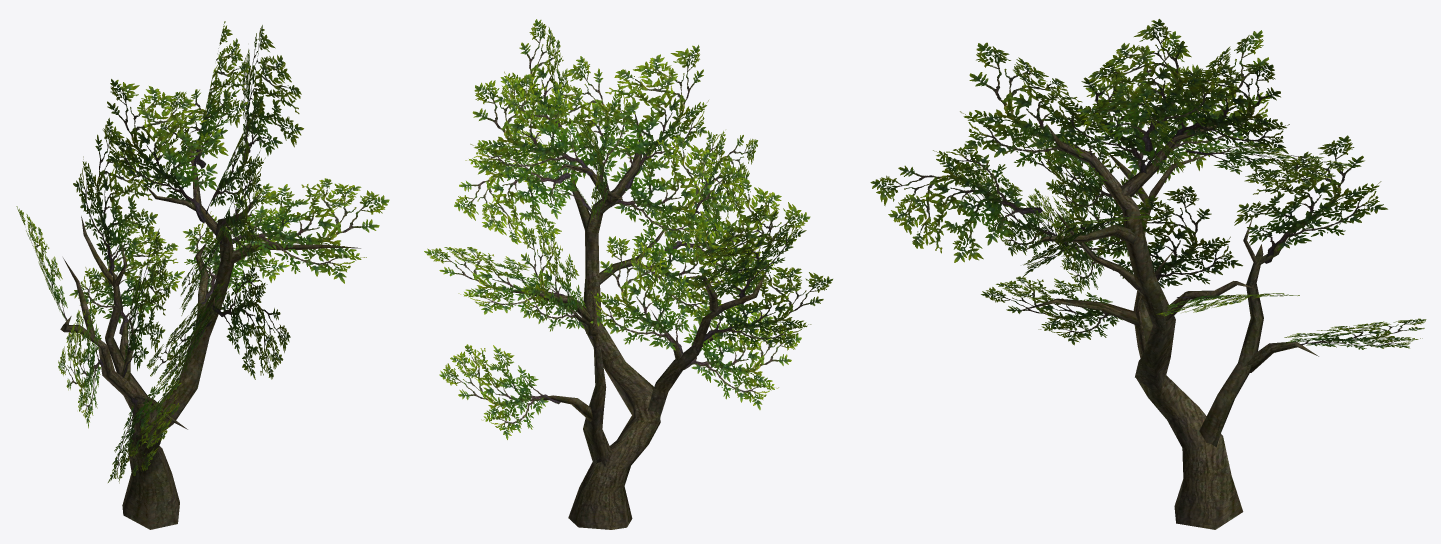
File: fb_chun_shu01_gai_55_47_2551out.fbx
3 renders of one model, left to right at view 1: azimuth 30°, elevation 25°; view 2: azimuth 150°, elevation 25°; view 3: azimuth 270°, elevation 25°, orthographic. The views are drawn at different scales.
Visible parts, largest first — view 1: 0001_fb_chun_shu01_gai, 0000_fb_chun_shu01_gai; view 2: 0001_fb_chun_shu01_gai, 0000_fb_chun_shu01_gai; view 3: 0001_fb_chun_shu01_gai, 0000_fb_chun_shu01_gai.
Part boxes in pixels (bbox=[...]): 0001_fb_chun_shu01_gai: bbox=[16, 21, 389, 483]; 0000_fb_chun_shu01_gai: bbox=[60, 126, 360, 529]; 0001_fb_chun_shu01_gai: bbox=[424, 19, 832, 439]; 0000_fb_chun_shu01_gai: bbox=[508, 110, 768, 529]; 0001_fb_chun_shu01_gai: bbox=[870, 19, 1426, 349]; 0000_fb_chun_shu01_gai: bbox=[1019, 123, 1321, 529].
Size of the model in its own units: 5.76 by 8.1 by 7.48.
